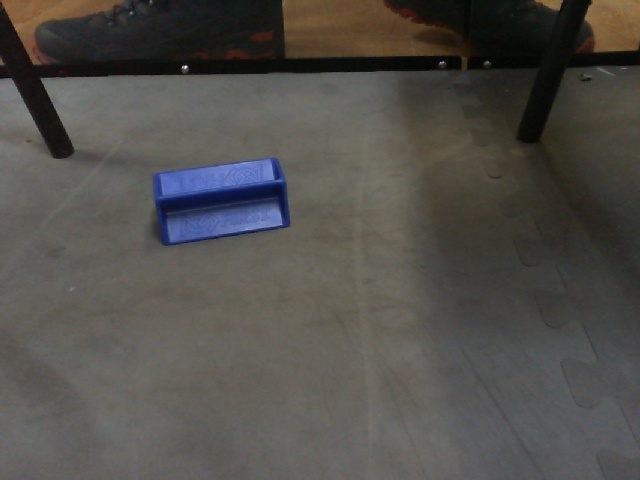BlueSample: (149, 153, 294, 248)
